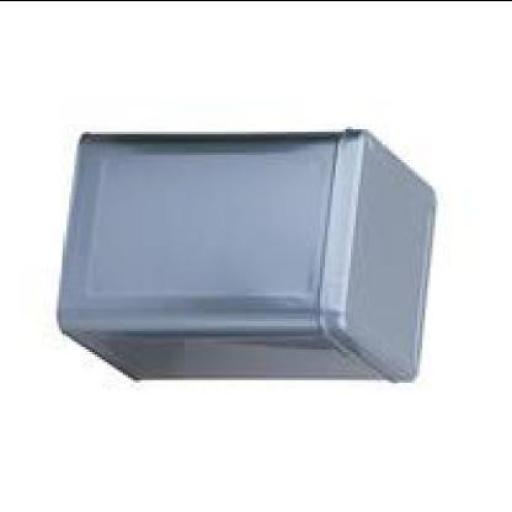metal: (62, 133, 443, 384)
